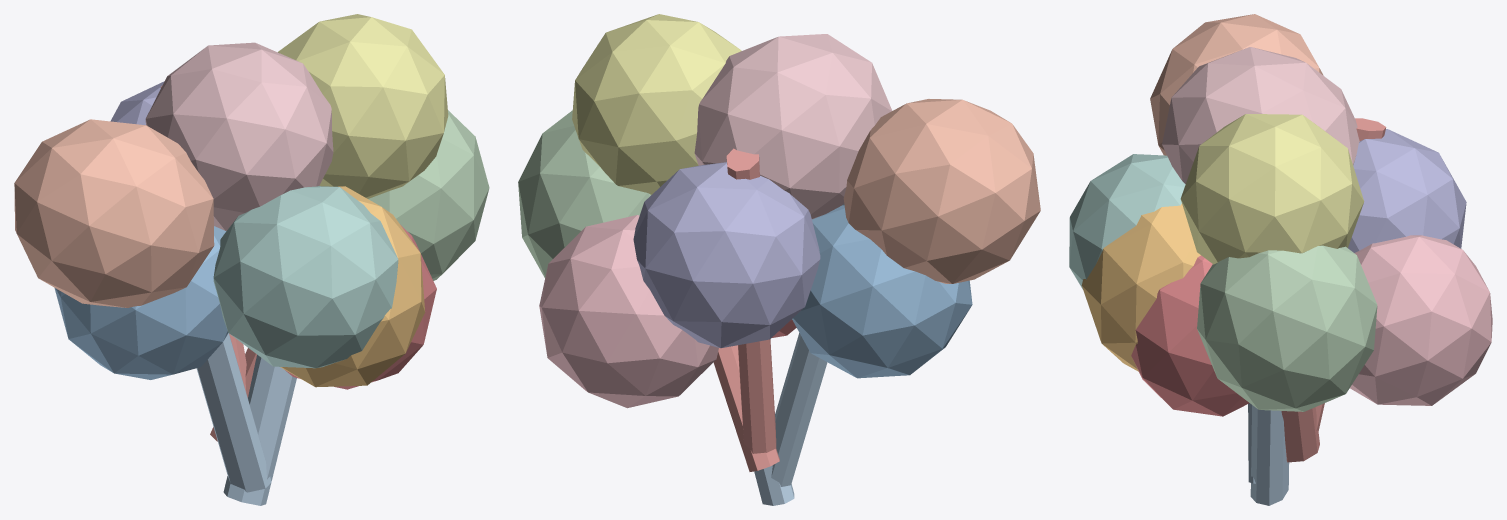
The model's file is 107251_assembly.glb.
The picture shows the model from 3 angles, left to right: view 1: azimuth 30°, elevation 25°; view 2: azimuth 150°, elevation 25°; view 3: azimuth 270°, elevation 25°; orthographic projection. The views are drawn at different scales.
Visible parts, largest first — view 1: part_02, part_08, part_05, part_06, part_10, part_09, part_07, part_03, part_00, part_11, part_01; view 2: part_02, part_11, part_05, part_04, part_06, part_10, part_07, part_01, part_09; view 3: part_07, part_06, part_04, part_05, part_11, part_03, part_00, part_08, part_02, part_09, part_01.
Boxes of the visible parts, bbox=[...] form: part_02: bbox=[14, 119, 214, 307]; part_08: bbox=[213, 186, 398, 368]; part_05: bbox=[145, 42, 333, 230]; part_06: bbox=[278, 14, 448, 198]; part_10: bbox=[54, 226, 228, 379]; part_09: bbox=[196, 333, 296, 505]; part_07: bbox=[368, 110, 489, 280]; part_03: bbox=[280, 186, 425, 387]; part_00: bbox=[284, 224, 436, 389]; part_11: bbox=[110, 81, 164, 125]; part_01: bbox=[160, 85, 256, 441]; part_02: bbox=[843, 99, 1040, 283]; part_11: bbox=[633, 162, 820, 348]; part_05: bbox=[694, 34, 892, 219]; part_04: bbox=[539, 215, 718, 408]; part_06: bbox=[572, 14, 741, 194]; part_10: bbox=[792, 205, 972, 378]; part_07: bbox=[518, 110, 650, 277]; part_01: bbox=[713, 148, 779, 471]; part_09: bbox=[754, 203, 844, 505]; part_07: bbox=[1197, 245, 1377, 411]; part_06: bbox=[1180, 114, 1364, 264]; part_04: bbox=[1350, 235, 1492, 405]; part_05: bbox=[1162, 47, 1359, 183]; part_11: bbox=[1348, 129, 1466, 252]; part_03: bbox=[1081, 203, 1200, 371]; part_00: bbox=[1131, 255, 1249, 416]; part_08: bbox=[1069, 154, 1185, 289]; part_02: bbox=[1150, 14, 1323, 155]; part_09: bbox=[1248, 403, 1289, 505]; part_01: bbox=[1281, 118, 1386, 462].
Bounding box in the file's own units: 1.51 × 1.39 × 1.23.
